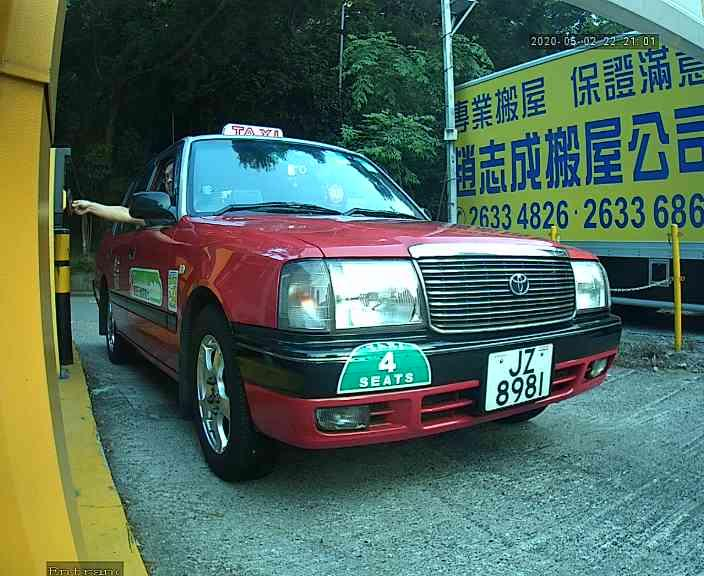Car: (80, 37, 624, 490)
License Plate: (475, 340, 560, 412)
